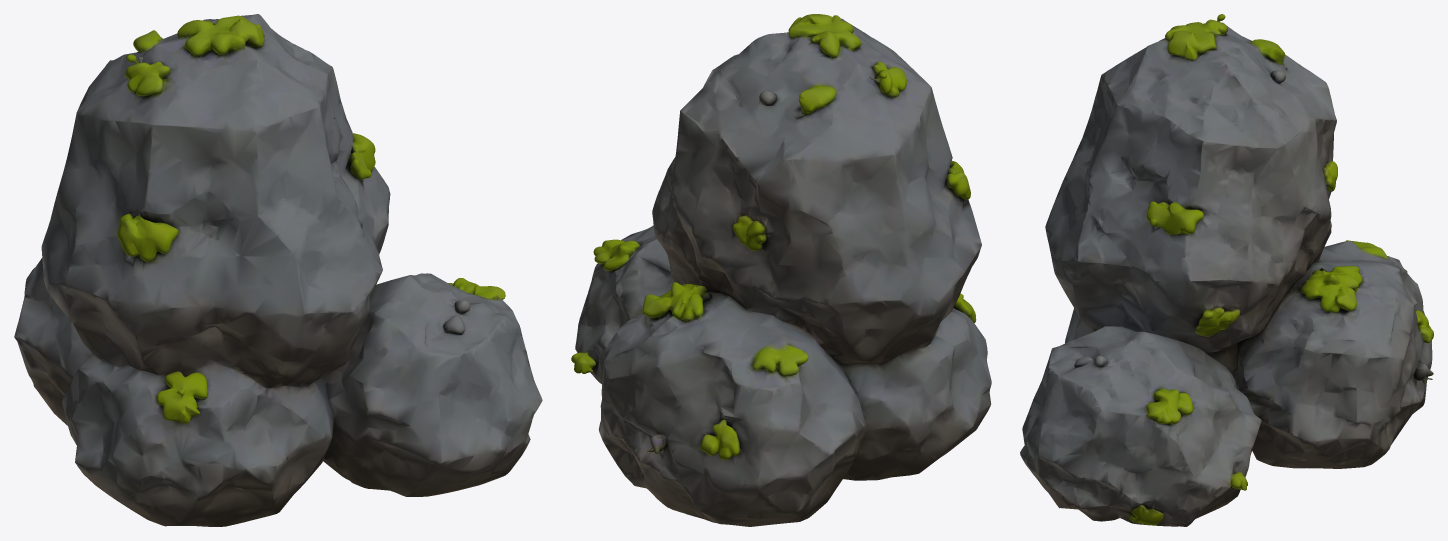
File: rocks.glb
The picture shows the model from 3 angles, left to right: view 1: azimuth 30°, elevation 25°; view 2: azimuth 150°, elevation 25°; view 3: azimuth 270°, elevation 25°; orthographic projection. The views are drawn at different scales.
Visible parts, largest first — view 1: tripo_node_b0b1d44a-9b4f-4a13-a1ba-32fa575f3050; view 2: tripo_node_b0b1d44a-9b4f-4a13-a1ba-32fa575f3050; view 3: tripo_node_b0b1d44a-9b4f-4a13-a1ba-32fa575f3050.
Boxes of the visible parts, x1,y1,x2,y2 form: tripo_node_b0b1d44a-9b4f-4a13-a1ba-32fa575f3050: [14, 14, 542, 526]; tripo_node_b0b1d44a-9b4f-4a13-a1ba-32fa575f3050: [571, 14, 991, 526]; tripo_node_b0b1d44a-9b4f-4a13-a1ba-32fa575f3050: [1020, 14, 1433, 526].
Bounding box in the file's own units: 0.9533 × 0.9992 × 0.9298.
1 material, 1 textured.
